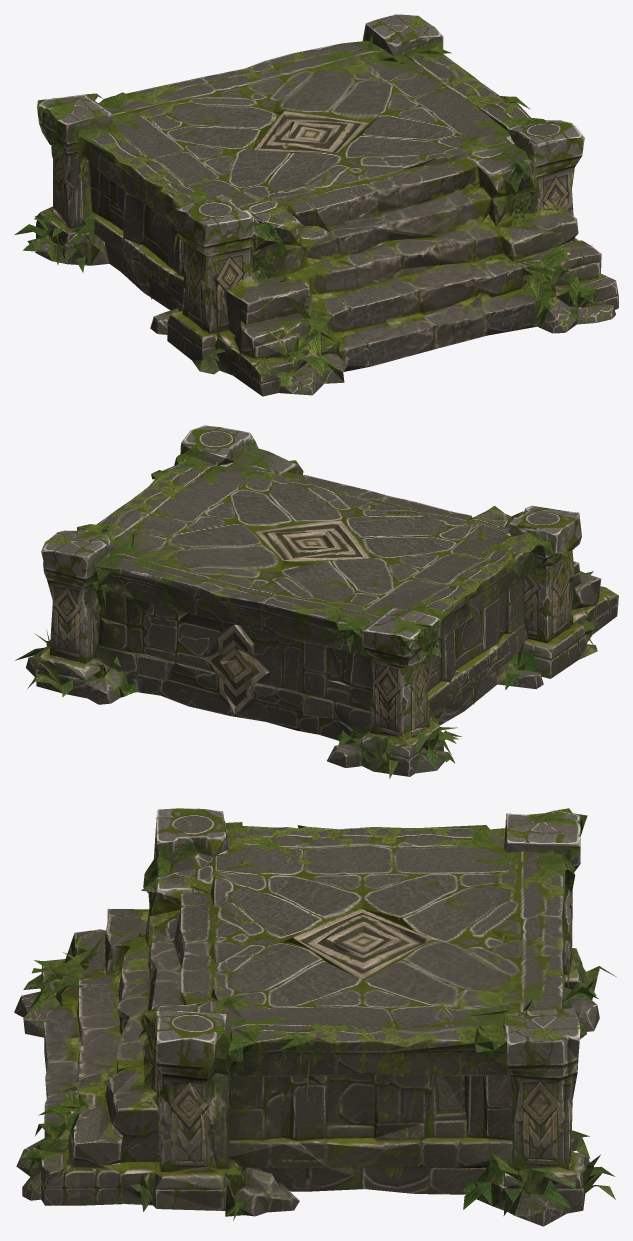
The model's file is platforma4k.glb.
The picture shows the model from 3 angles, top to bottom: view 1: azimuth 30°, elevation 25°; view 2: azimuth 150°, elevation 25°; view 3: azimuth 270°, elevation 25°; orthographic projection. The views are drawn at different scales.
Visible parts, largest first — view 1: output_unwrapped; view 2: output_unwrapped; view 3: output_unwrapped.
Part boxes in pixels (box(x1,y1,x2,y2)): output_unwrapped: box(14, 14, 618, 396); output_unwrapped: box(15, 425, 618, 778); output_unwrapped: box(14, 808, 616, 1226).
Size of the model in its own units: 1.87 by 0.5932 by 1.83.
1 material, 1 textured.
